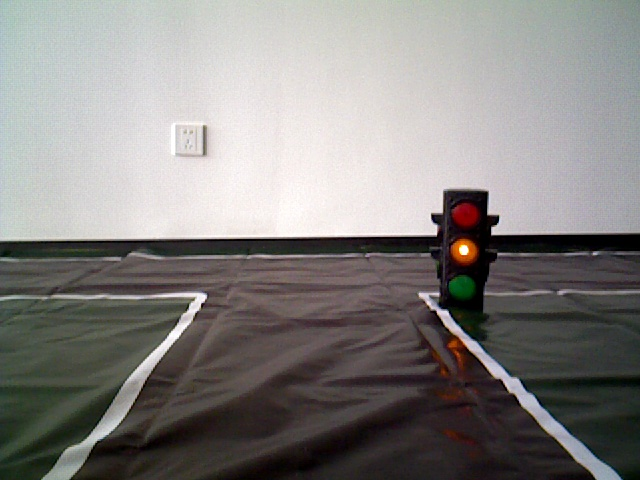yellow: (440, 194, 488, 302)
